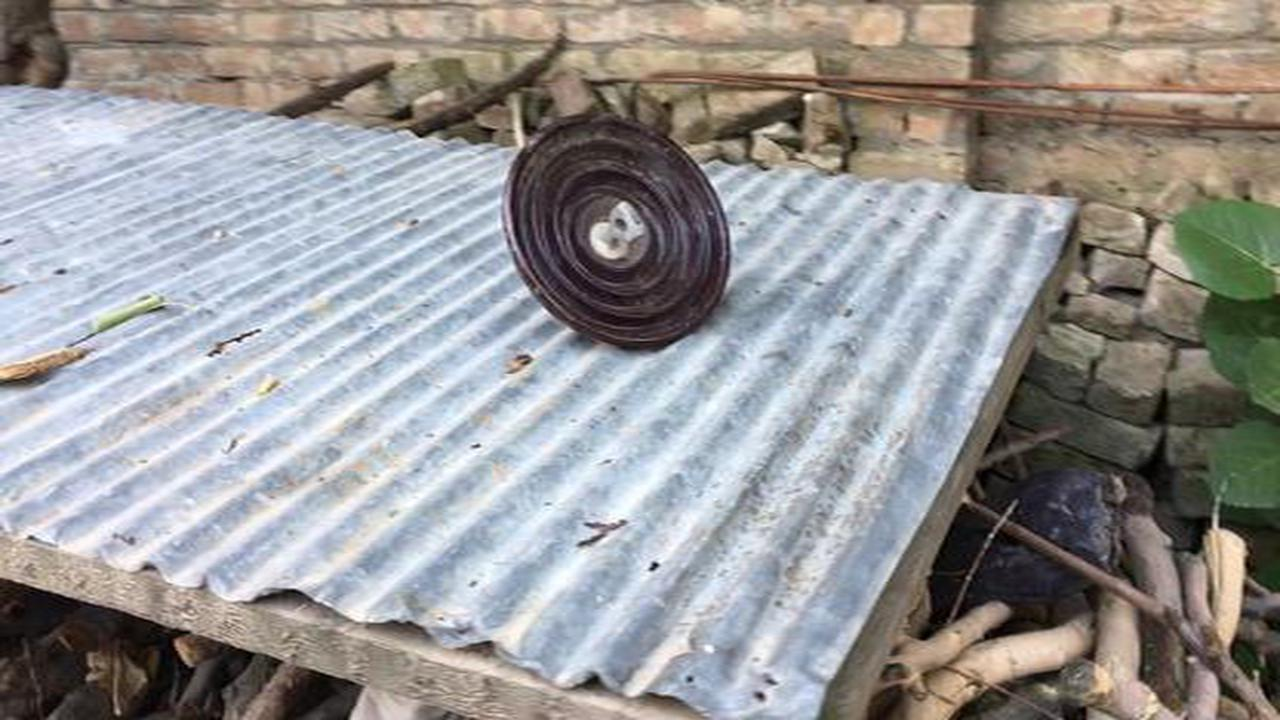insulator_disc: (497, 111, 737, 353)
